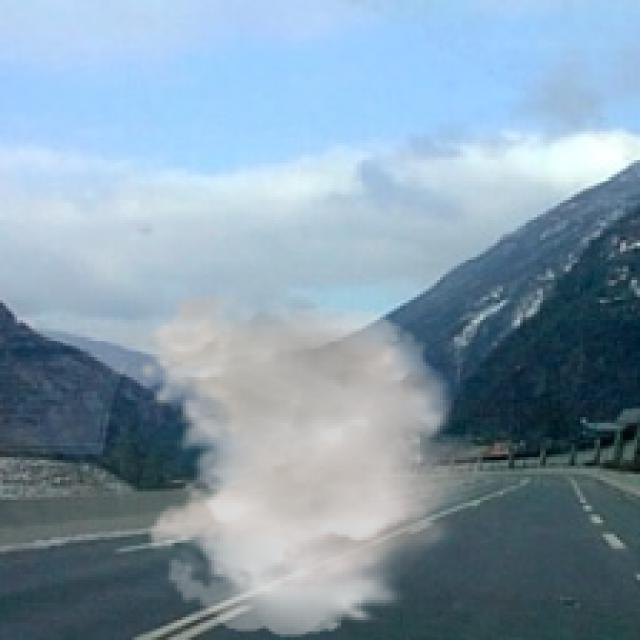Smoke: (137, 292, 500, 637)
